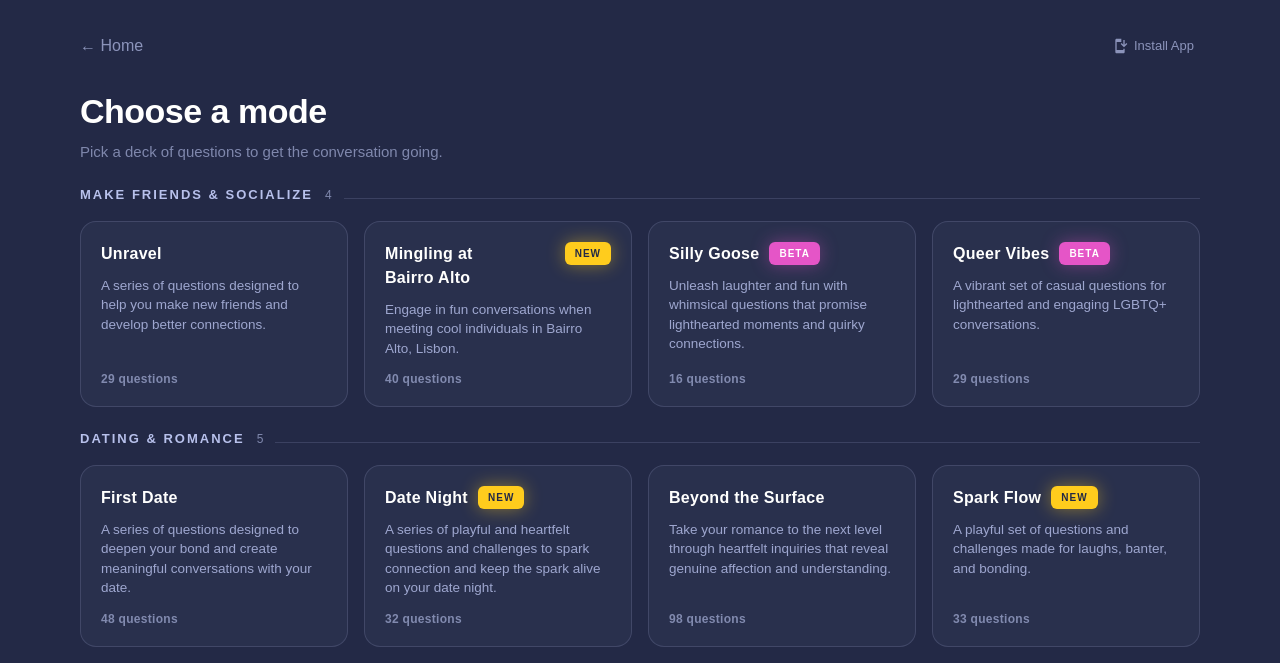
it: Questions page › starts a family-friendly mode immediately
Click the button "Unravel".
click(214, 314)  # box [80, 220, 348, 407]
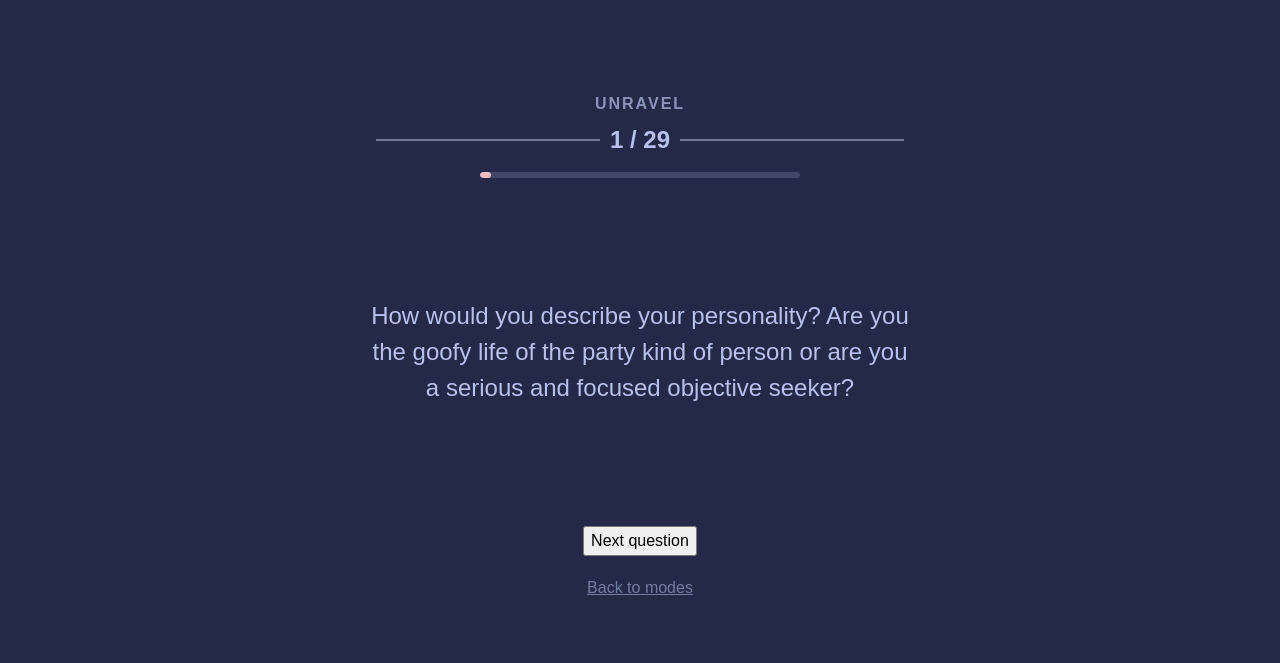
Expected: the heading "Unravel" is shown, [595, 95, 685, 112]
Result: the progress indicator is shown at [480, 172, 800, 178]
